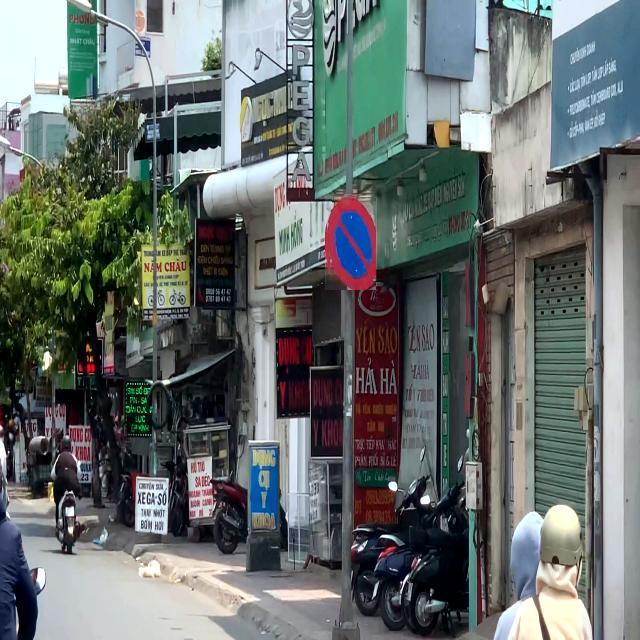P-131a: (326, 195, 378, 291)
